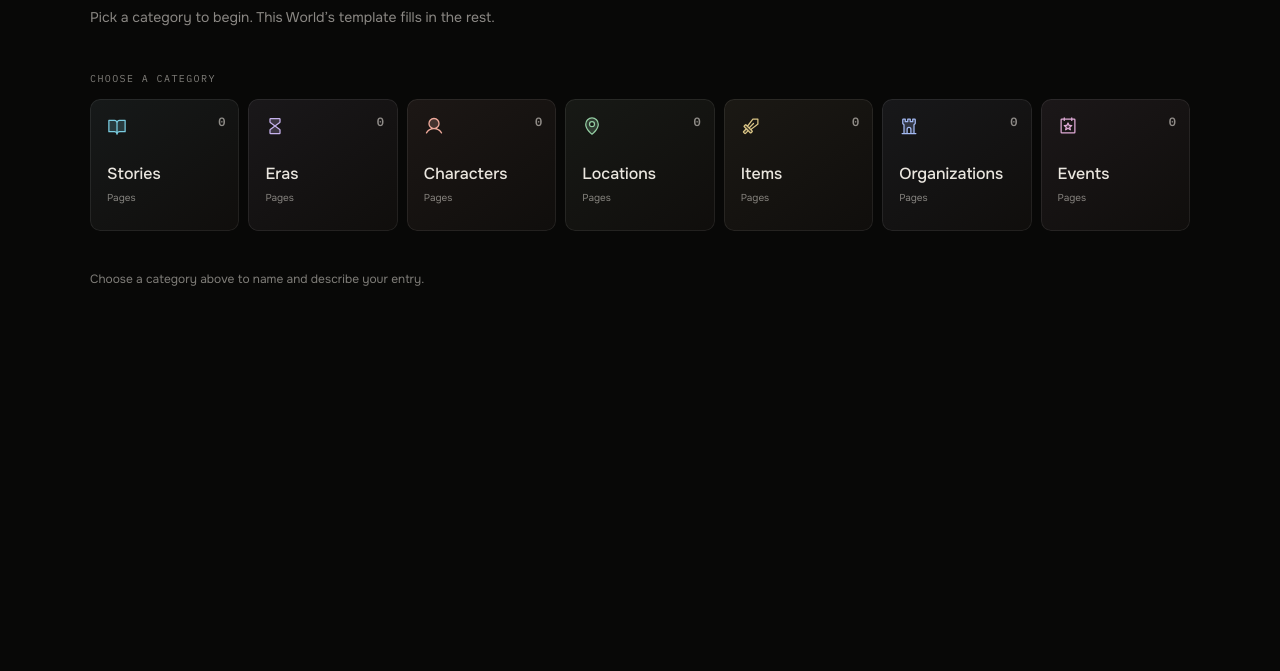
Test: NewPageScreen › offers Cover as a file-or-link image control, not a bare URL field
Click the button "Events 0 Pages".
click(1115, 165)  # box 1041,99 -> 1190,231
(page scrolled)
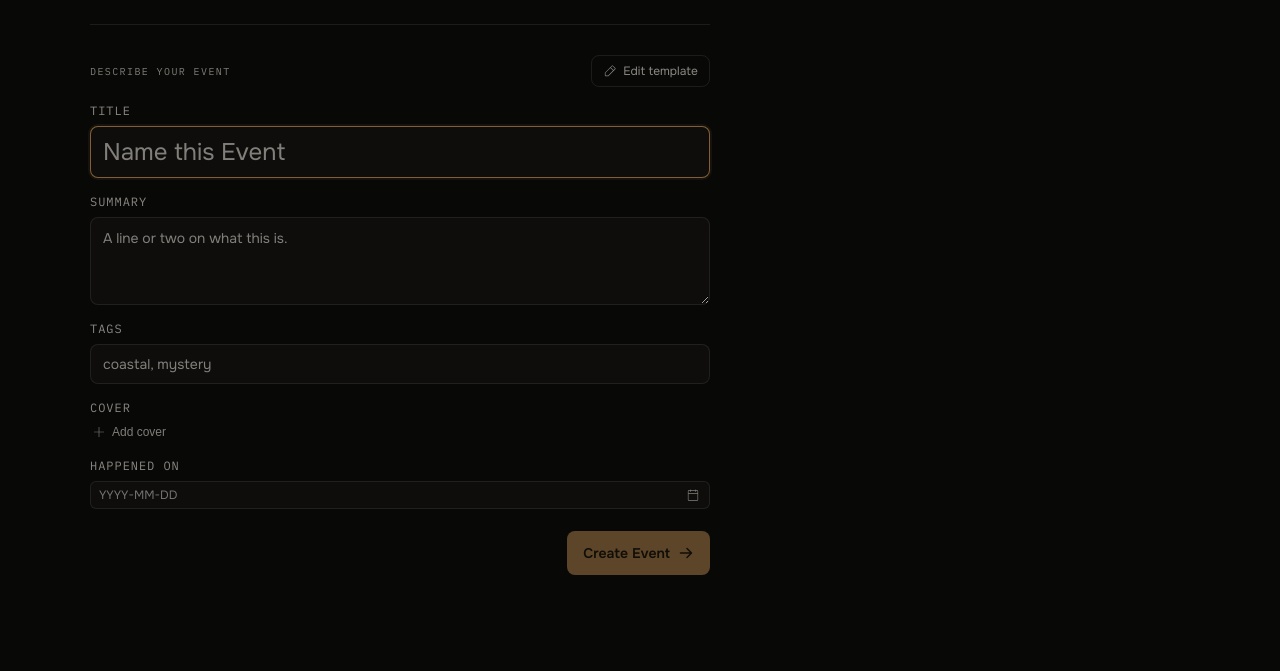
Result: the button "Add cover" is shown
Click the button "Add cover".
click(129, 433)  # box 90,423 -> 168,442
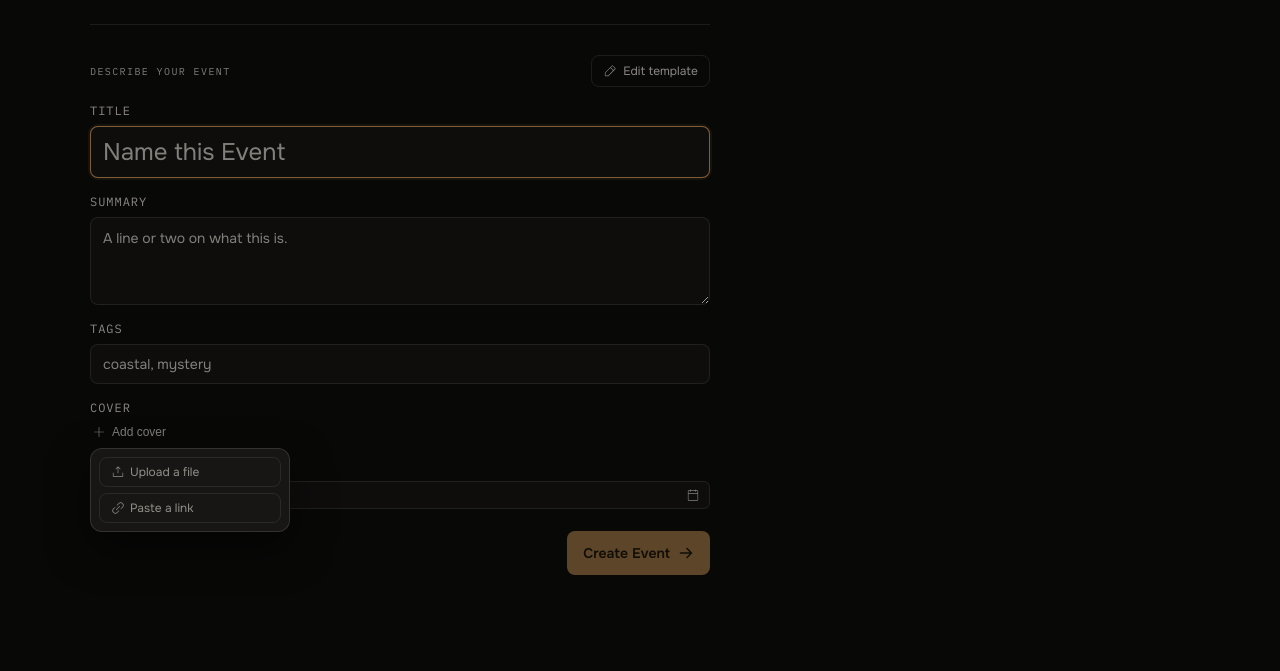
Result: the button with aria-label "Upload a file for Cover" is shown at 99,457 -> 281,487
Result: the button with aria-label "Paste a link for Cover" is shown at 99,493 -> 281,523
